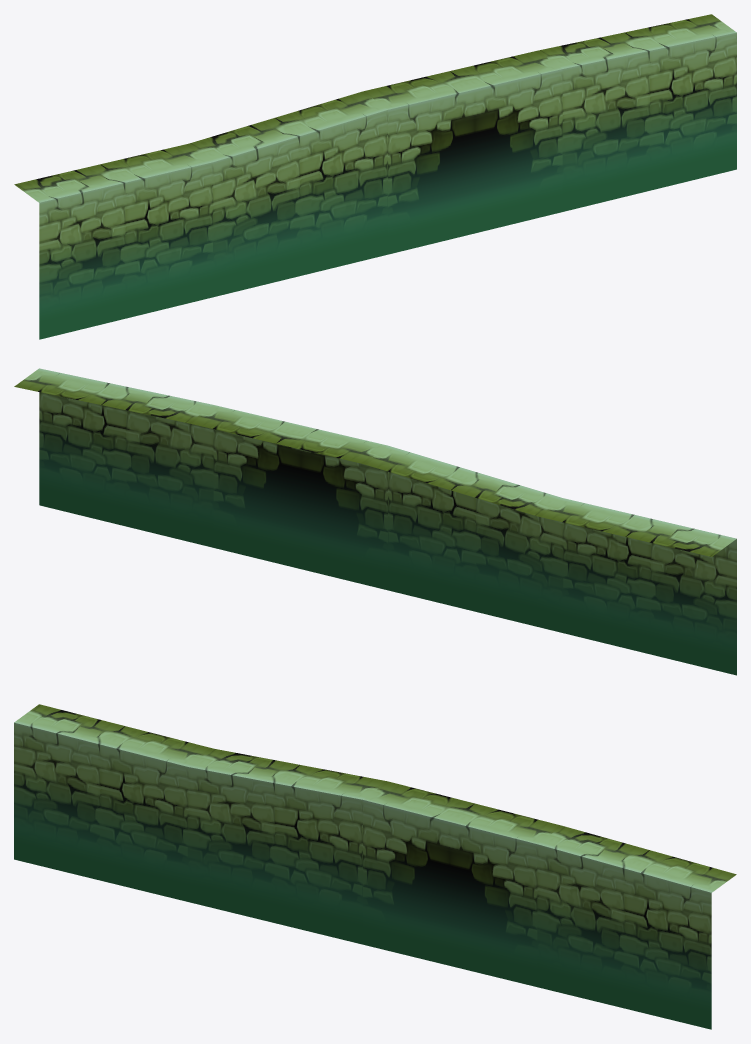
The picture shows the model from 3 angles, top to bottom: view 1: azimuth 30°, elevation 25°; view 2: azimuth 150°, elevation 25°; view 3: azimuth 330°, elevation 25°; orthographic projection.
Parts seen in each view (by area): view 1: Box018; view 2: Box018; view 3: Box018.
Part boxes in pixels (x1=…): Box018: x1=14, y1=14, x2=736, y2=339; Box018: x1=14, y1=368, x2=736, y2=675; Box018: x1=14, y1=704, x2=736, y2=1029.
Bounding box in the file's own units: 1600 × 100 × 317.
